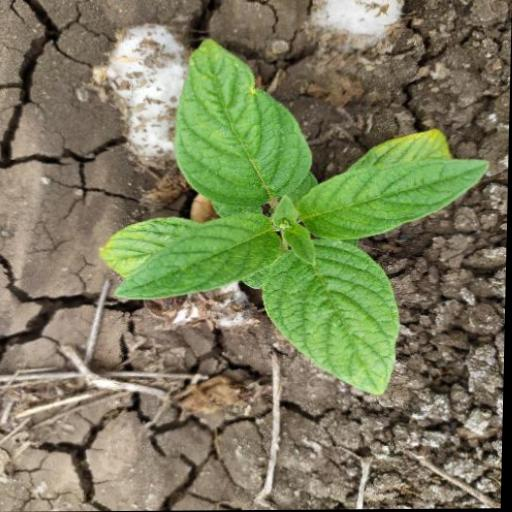crop: (105, 38, 491, 392)
